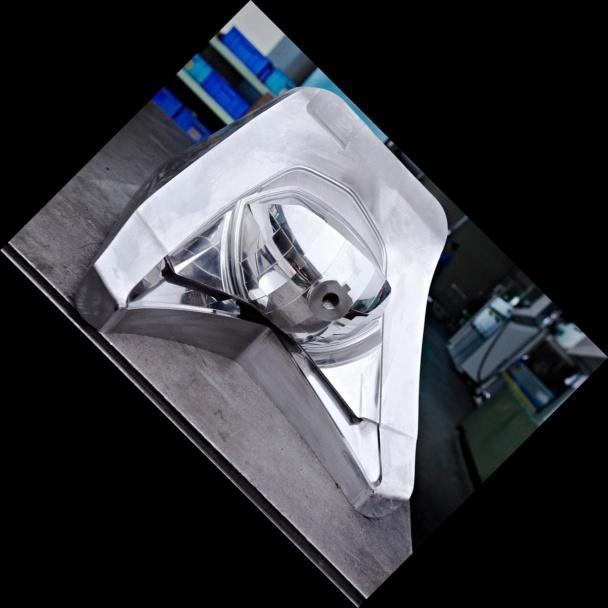hole: (316, 286, 345, 316)
